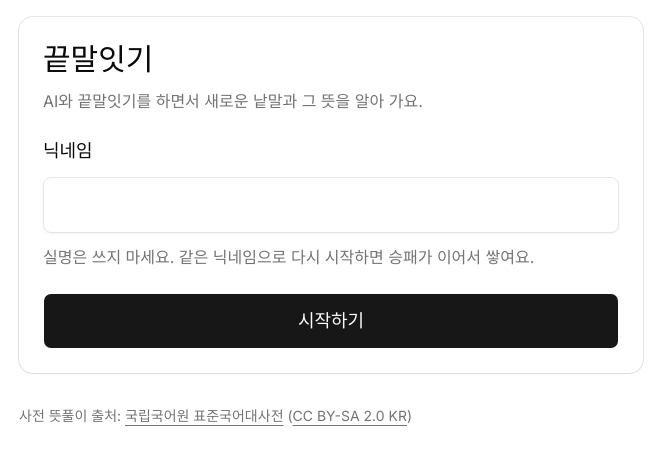
사전으로 단어 확인 › 단어장에 없는 단어는 확인하는 동안 입력이 막히고 안내가 나온다
The width and height of the screenshot is (661, 475).
Type "하늘" into the field labelled "닉네임" at point(331, 205), box [43,177,619,233]
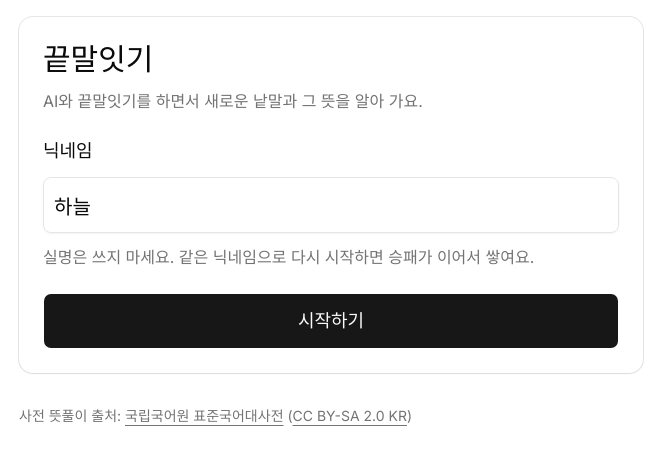
Click the button "시작하기" at point(331, 321), box [43,293,619,349]
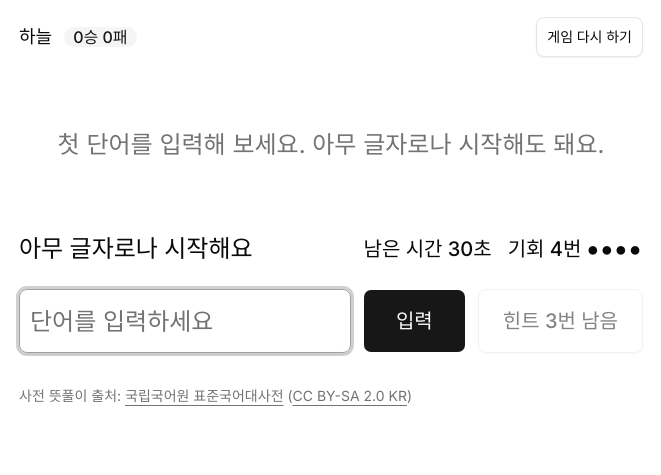
Type "사자" into the field named "단어 입력" at point(185, 321), box [19,289,351,353]
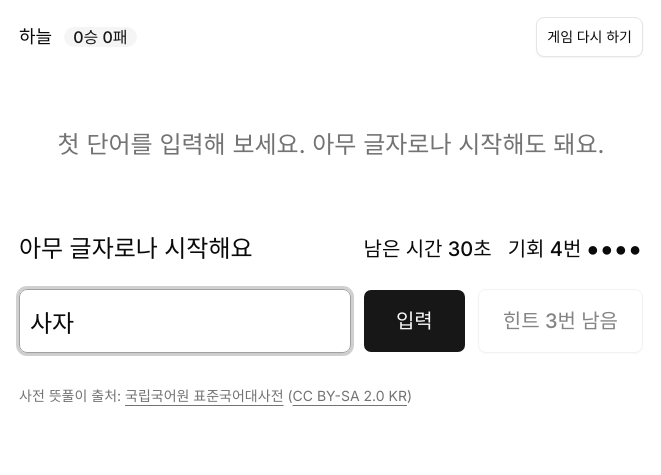
Click the button "입력" at point(414, 321), box [363,289,466,353]
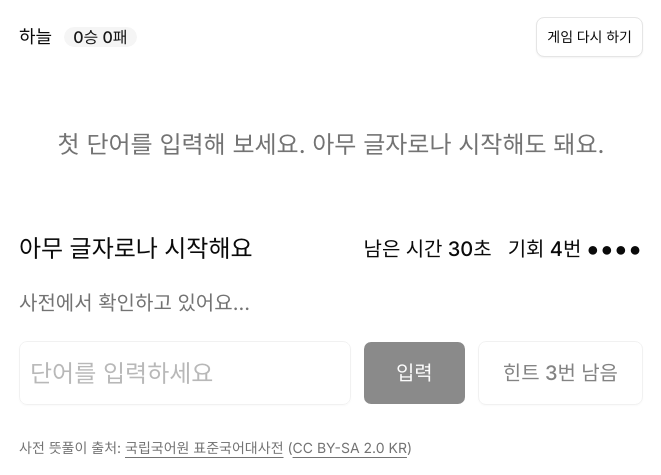
Result: the text "사전에서 확인하고 있어요…" is shown at [19,291,250,315]
Result: the field named "단어 입력" is disabled at [19,341,351,405]
Result: the button "입력" is disabled at [363,341,466,405]
